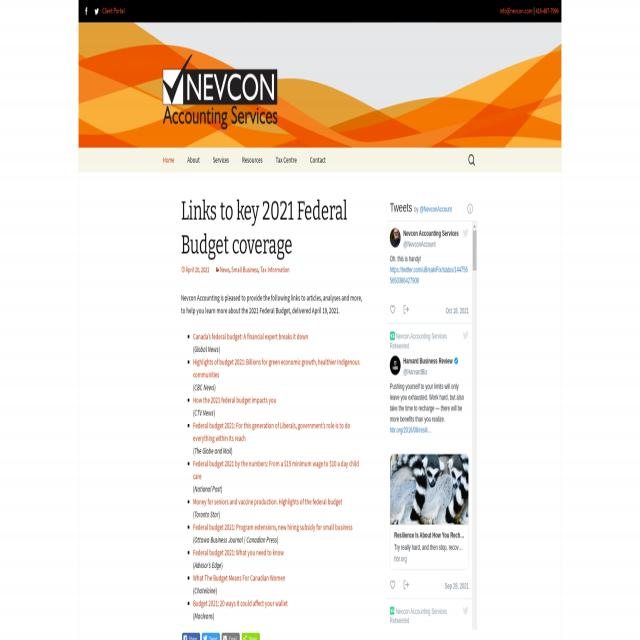button: (391, 454, 468, 568), (163, 55, 277, 129), (390, 355, 401, 375), (390, 227, 400, 248), (472, 231, 477, 270), (401, 576, 411, 594), (401, 302, 411, 318), (201, 632, 220, 640), (221, 632, 240, 640), (388, 576, 398, 591), (388, 301, 397, 317), (461, 602, 470, 618), (242, 632, 260, 640), (182, 632, 200, 640), (461, 329, 469, 342), (467, 202, 473, 216), (462, 228, 470, 238), (83, 6, 89, 17), (94, 6, 100, 17), (472, 221, 477, 231)
field: (467, 150, 477, 170)
